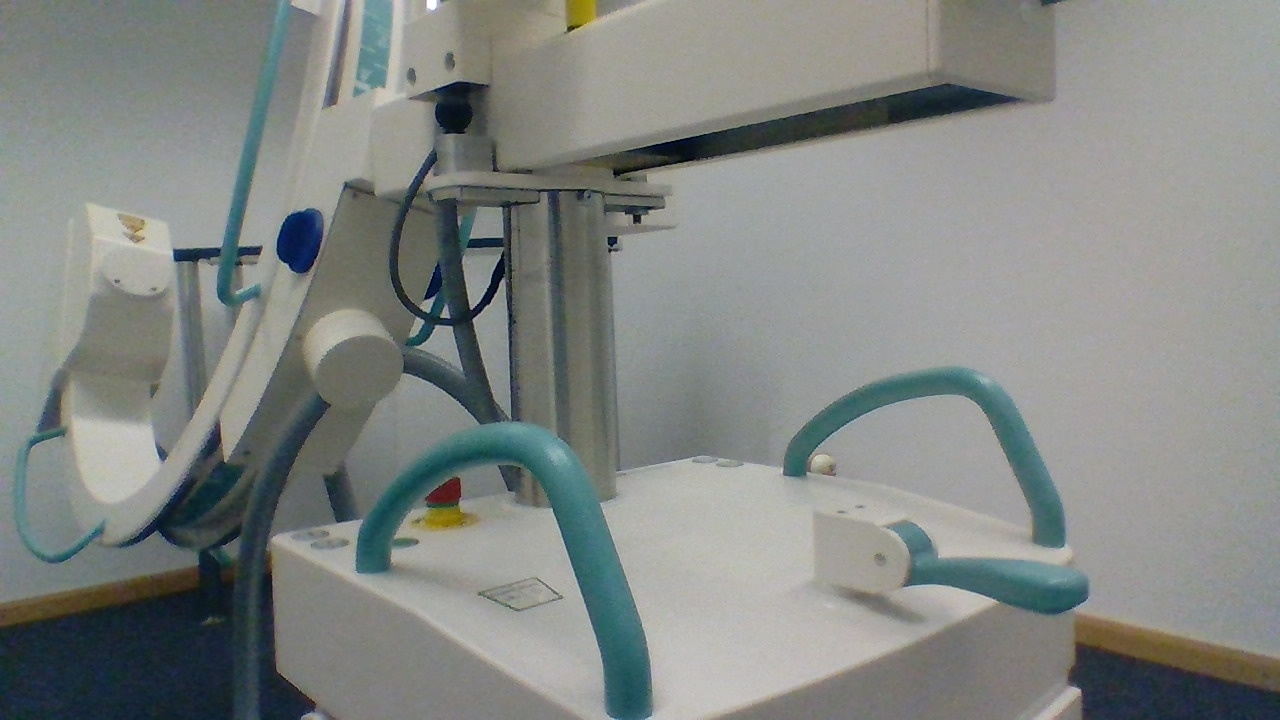carmBACK: (814, 498, 1093, 616)
carmDOWN: (57, 199, 175, 389)
carmLOCK: (275, 206, 325, 275)
